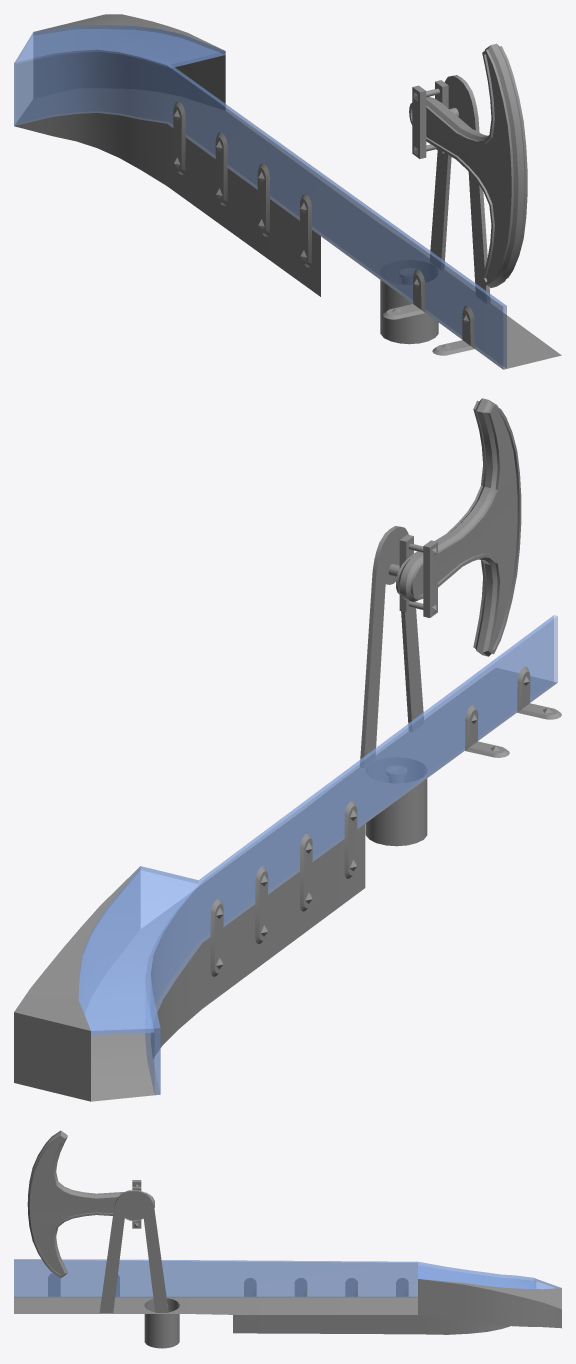
Rendered from Launcher Assembly.FBX.
3 views of the same model, one above another, from view 1: azimuth 30°, elevation 25°; view 2: azimuth 150°, elevation 25°; view 3: azimuth 270°, elevation 25° (orthographic). The views are drawn at different scales.
Visible parts, largest first — view 1: Launcher Track, Launcher Shield, Ukon Kirves, Ukon Kirves Frame, Board, Support005, Support004, Launcher Shield Support, Launcher Shield Support005, Launcher Shield Support007, Launcher Shield Support009; view 2: Launcher Track, Launcher Shield, Ukon Kirves, Ukon Kirves Frame, Board, Support005, Launcher Shield Support, Launcher Shield Support009, Support004, Launcher Shield Support005, Launcher Shield Support007; view 3: Launcher Track, Launcher Shield, Ukon Kirves, Ukon Kirves Frame, Launcher Shield Support, Launcher Shield Support005, Launcher Shield Support009, Launcher Shield Support007.
Boxes of the visible parts, box(x1,y1,x2,y2) form: Launcher Track: box(14, 14, 561, 369); Launcher Shield: box(14, 25, 506, 368); Ukon Kirves: box(409, 43, 527, 287); Ukon Kirves Frame: box(430, 75, 490, 303); Board: box(412, 85, 426, 158); Support005: box(432, 305, 474, 355); Support004: box(383, 269, 425, 319); Launcher Shield Support: box(173, 101, 185, 174); Launcher Shield Support005: box(215, 132, 227, 205); Launcher Shield Support007: box(257, 163, 269, 236); Launcher Shield Support009: box(300, 194, 311, 267); Launcher Track: box(14, 668, 556, 1101); Launcher Shield: box(78, 615, 557, 1095); Ukon Kirves: box(396, 398, 521, 656); Ukon Kirves Frame: box(360, 526, 423, 767); Board: box(423, 540, 437, 617); Support005: box(517, 666, 561, 719); Launcher Shield Support: box(210, 899, 223, 976); Launcher Shield Support009: box(344, 801, 357, 878); Support004: box(465, 704, 509, 757); Launcher Shield Support005: box(255, 866, 268, 944); Launcher Shield Support007: box(300, 833, 312, 911); Launcher Track: box(14, 1279, 561, 1348); Launcher Shield: box(14, 1259, 560, 1297); Ukon Kirves: box(27, 1130, 154, 1277); Ukon Kirves Frame: box(99, 1190, 168, 1312); Launcher Shield Support: box(396, 1278, 408, 1321); Launcher Shield Support005: box(345, 1278, 357, 1321); Launcher Shield Support009: box(244, 1278, 256, 1321); Launcher Shield Support007: box(294, 1278, 307, 1321).
Bounding box in the file's own units: 0.0632 × 0.1851 × 0.4321.
